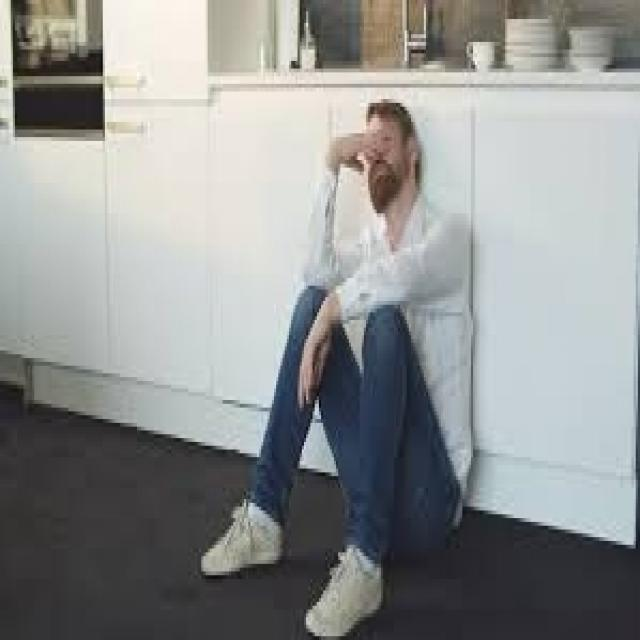sitting: (195, 95, 482, 636)
